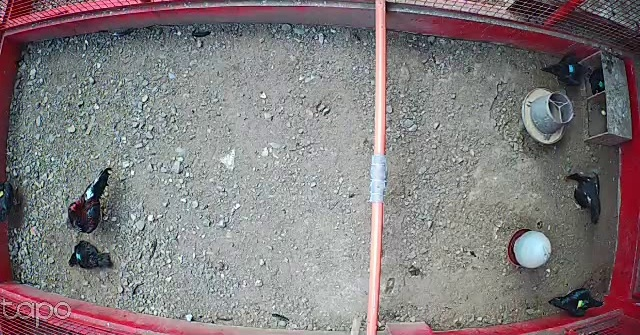Chicken: (564, 168, 604, 225), (548, 288, 607, 318), (538, 53, 590, 87), (67, 238, 115, 272), (0, 178, 23, 225)
Drinker: (507, 228, 553, 268)
Feeder: (522, 82, 573, 145)
Rooster: (65, 168, 114, 240)
Saddle_Color_Blue: (567, 64, 574, 73)
Saddle_Color_Yellow: (0, 192, 4, 197)
Saddle_Color_YellowGreen: (576, 300, 586, 310)
